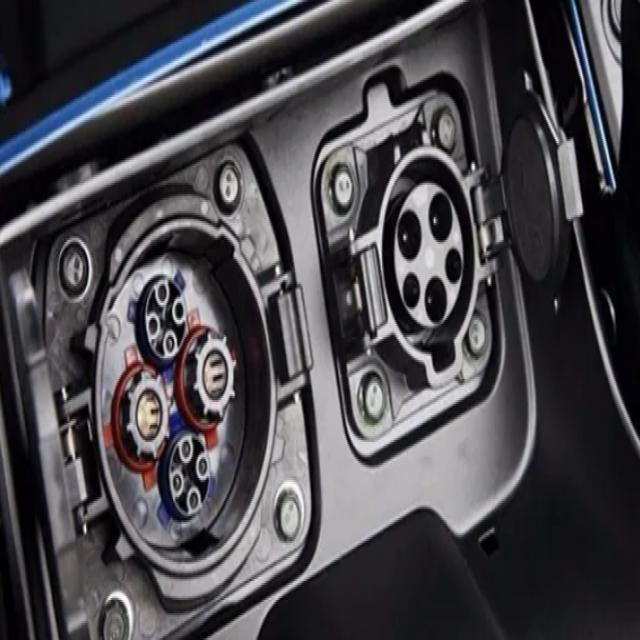CHAdeMO: (66, 250, 321, 522)
